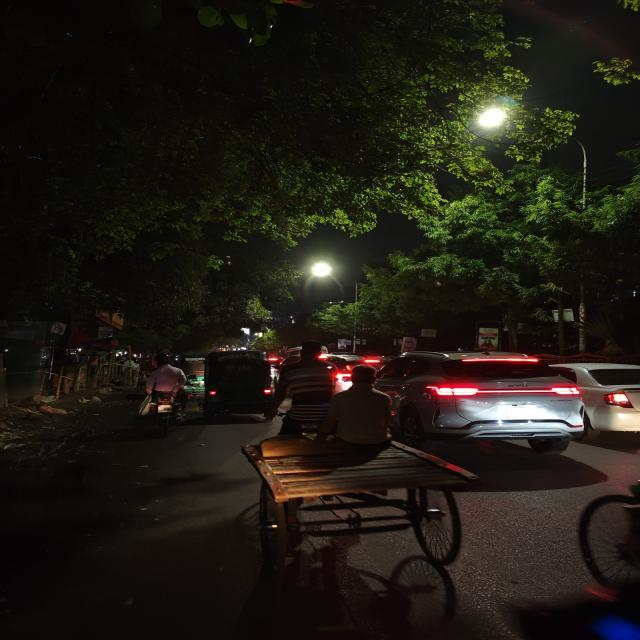car: (368, 345, 589, 457), (589, 358, 640, 441)
cng: (198, 348, 276, 420)
pedestrian: (138, 353, 190, 425)
rickshaw: (231, 353, 484, 578)
